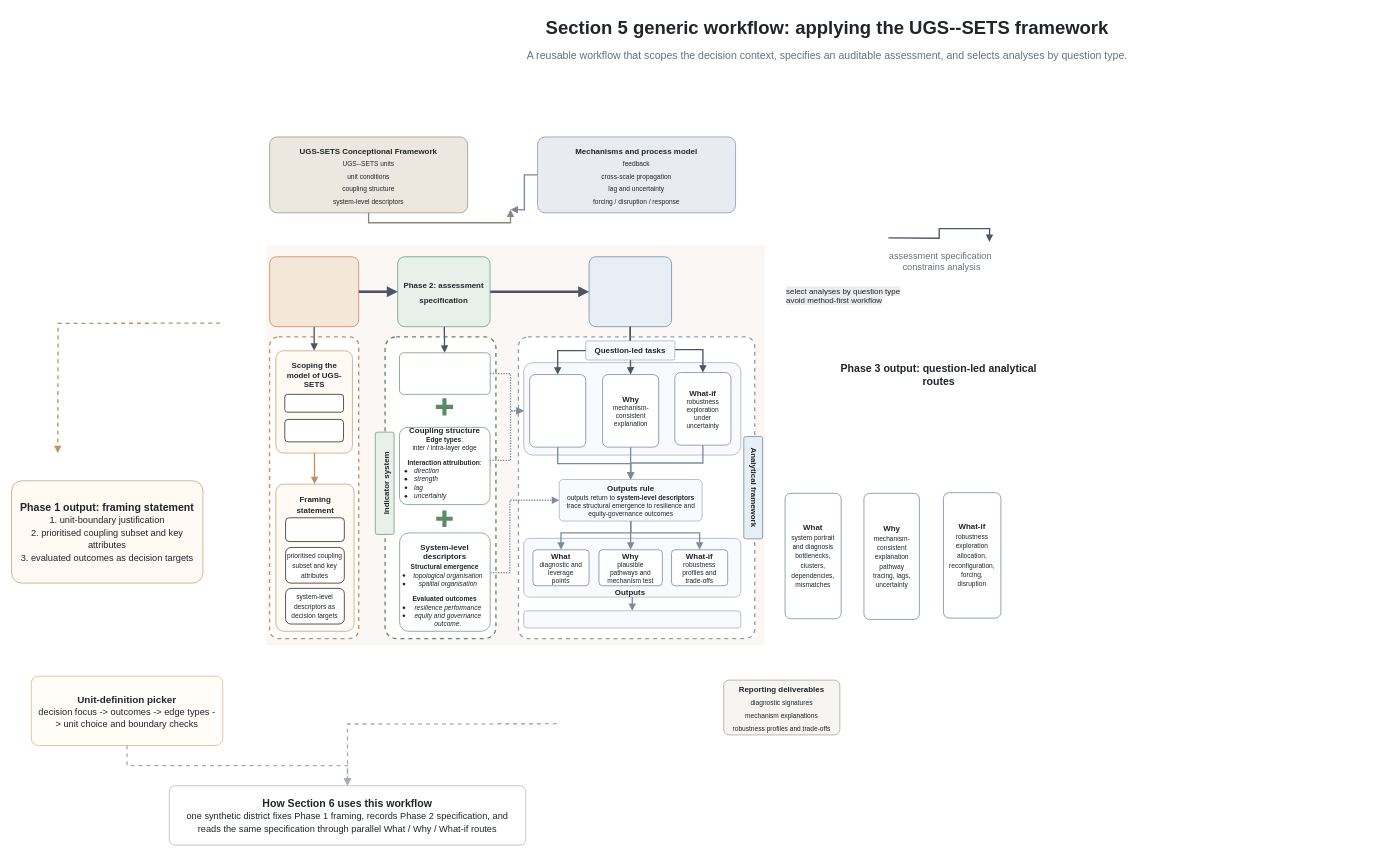
This 1380x857 diagram has some shape labels left out. Each missing label, with the centre of its shape:
"decision problem" belongs at pixel 314 403.
"Goal: decision-relevant synthesis for UGS planning and governance" belongs at pixel 632 619.
"Phase 1: scoping and framing" belongs at pixel 314 291.
"Phase 3: analysis selection and synthesis" belongs at pixel 630 291.
"spatial/temporal boundary" belongs at pixel 314 430.
"Unit conditions S/E/T indicators capacity proxies" belongs at pixel 444 373.
"unit-boundary justification" belongs at pixel 314 529.
"What system portrait and diagnosis" belongs at pixel 557 410.
